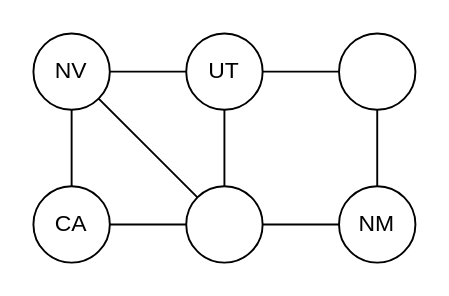
The diagram is 449 pixels wide and 296 high, and some of its shapes have lost their labels. Each missing label, with the centre of its shape:
"AZ" goes at (x=223, y=223).
"CO" goes at (x=376, y=71).
